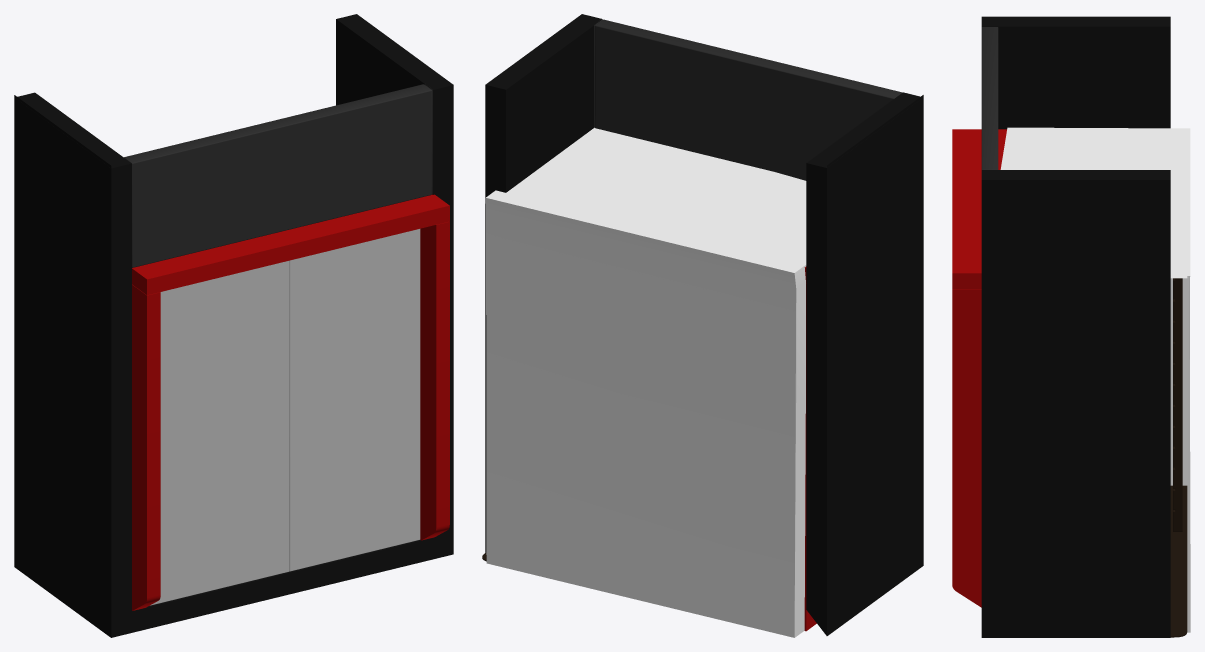
The model's file is Shop_shoes_short.FBX.
3 views of the same model, side by side, from view 1: azimuth 30°, elevation 25°; view 2: azimuth 150°, elevation 25°; view 3: azimuth 270°, elevation 25° (orthographic). The views are drawn at different scales.
Parts seen in each view (by area): view 1: Object002, vm_v3_063_Glass; view 2: Object002; view 3: Object002.
Boxes of the visible parts, <box> form: Object002: <box>14,14,453,637</box>; vm_v3_063_Glass: <box>150,229,420,605</box>; Object002: <box>482,14,923,637</box>; Object002: <box>952,16,1190,637</box>.
Size of the model in its own units: 318 by 420 by 197.
